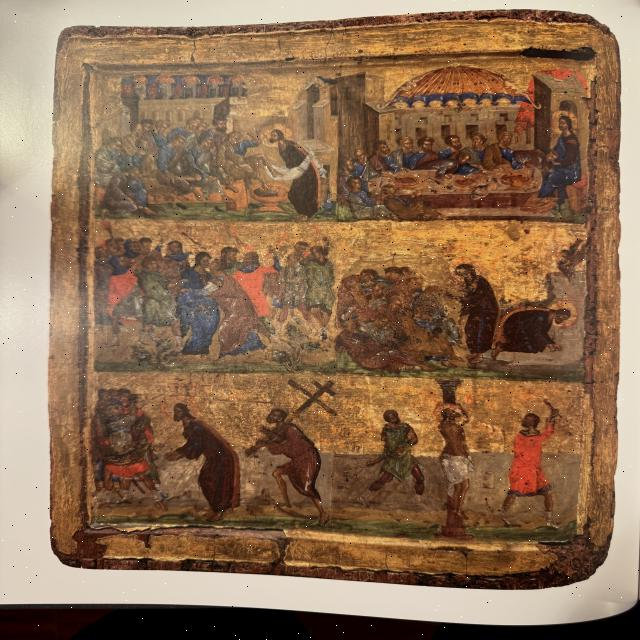aura: (160, 393, 201, 427), (546, 300, 578, 332), (260, 125, 292, 150), (551, 111, 579, 137)
christ: (157, 388, 247, 524), (257, 122, 327, 216), (491, 295, 583, 365), (535, 110, 591, 212)
